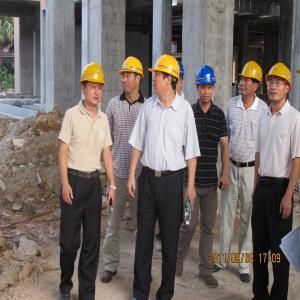blue: (196, 66, 218, 104)
yellow: (154, 56, 181, 99), (266, 63, 293, 104), (81, 64, 105, 107), (120, 57, 144, 95), (239, 63, 263, 98)
